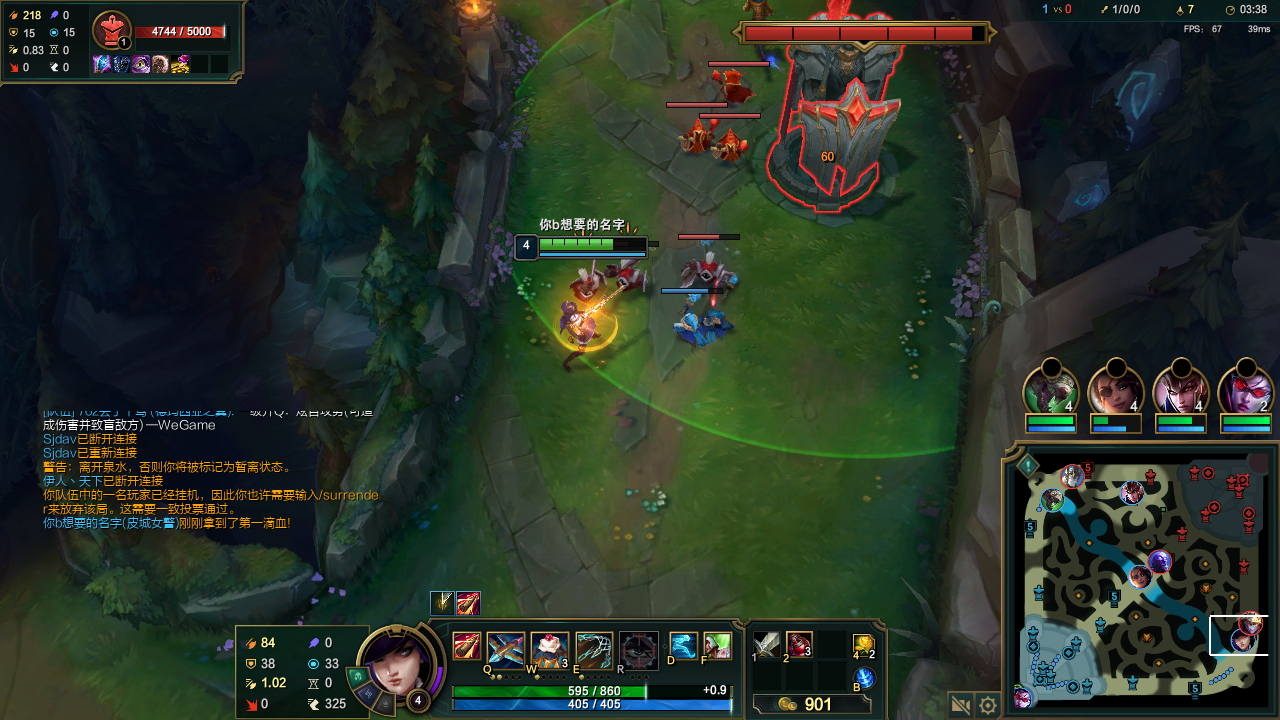DFFYT: (757, 14, 921, 212)
DFXB: (713, 68, 753, 106), (611, 262, 646, 291), (691, 262, 732, 284), (575, 274, 607, 299), (682, 126, 709, 154), (716, 135, 745, 159)
WFXB: (673, 306, 703, 343)
Yita: (1190, 682, 1199, 697)
